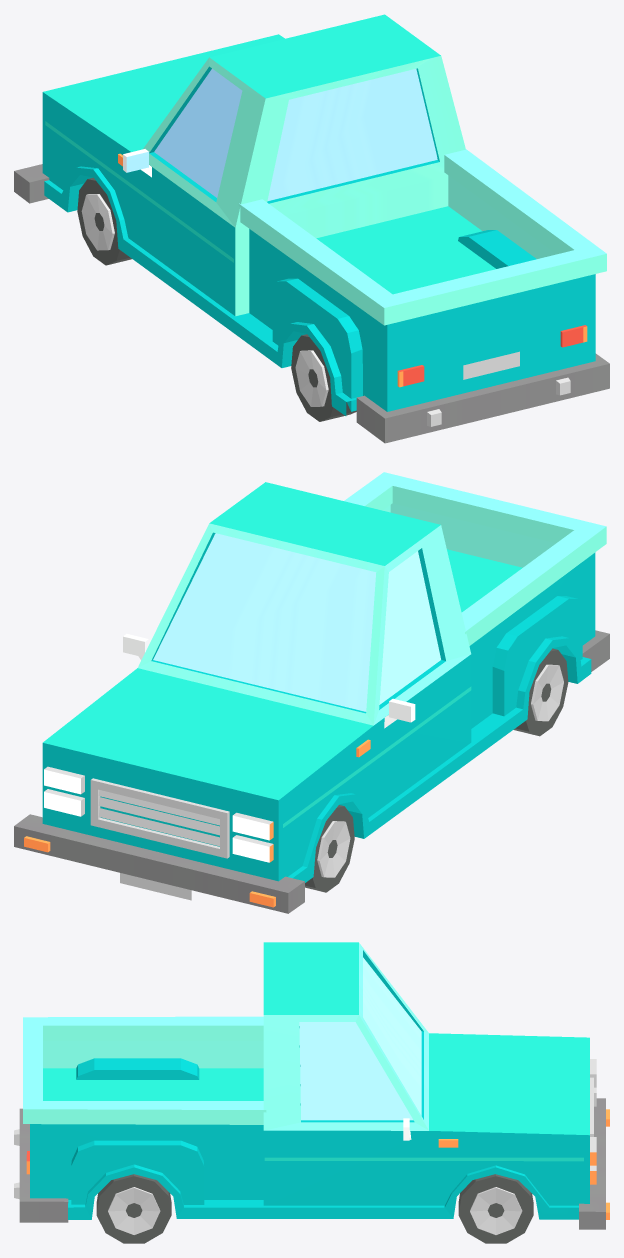
File: transport_old.011.glb
3 views of the same model, one above another, from view 1: azimuth 30°, elevation 25°; view 2: azimuth 150°, elevation 25°; view 3: azimuth 270°, elevation 25° (orthographic). The views are drawn at different scales.
Parts seen in each view (by area): view 1: transport_old.011(Clone); view 2: transport_old.011(Clone); view 3: transport_old.011(Clone).
Boxes of the visible parts, x1,y1,x2,y2 form: transport_old.011(Clone): (14, 14, 609, 443); transport_old.011(Clone): (14, 472, 609, 913); transport_old.011(Clone): (14, 942, 609, 1243).
Size of the model in its own units: 1.66 by 1.41 by 3.51.
1 material, 1 textured.
